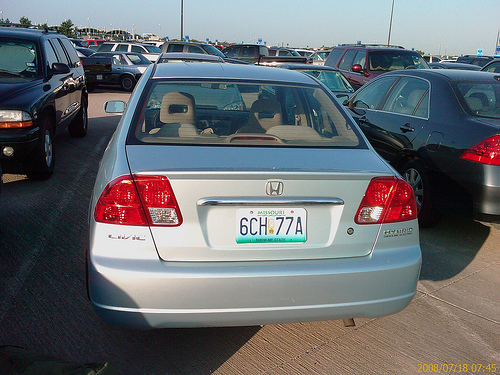car: (80, 64, 420, 332), (352, 66, 500, 226), (1, 26, 88, 176)
